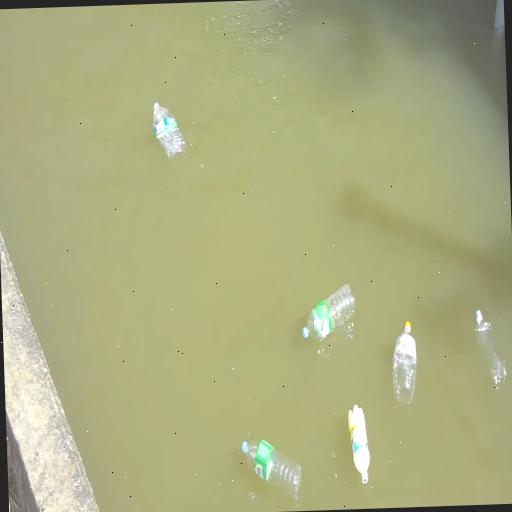plastic: (241, 440, 300, 500), (302, 284, 353, 340), (475, 311, 505, 388), (392, 322, 416, 402), (152, 103, 185, 158), (347, 405, 369, 483)
